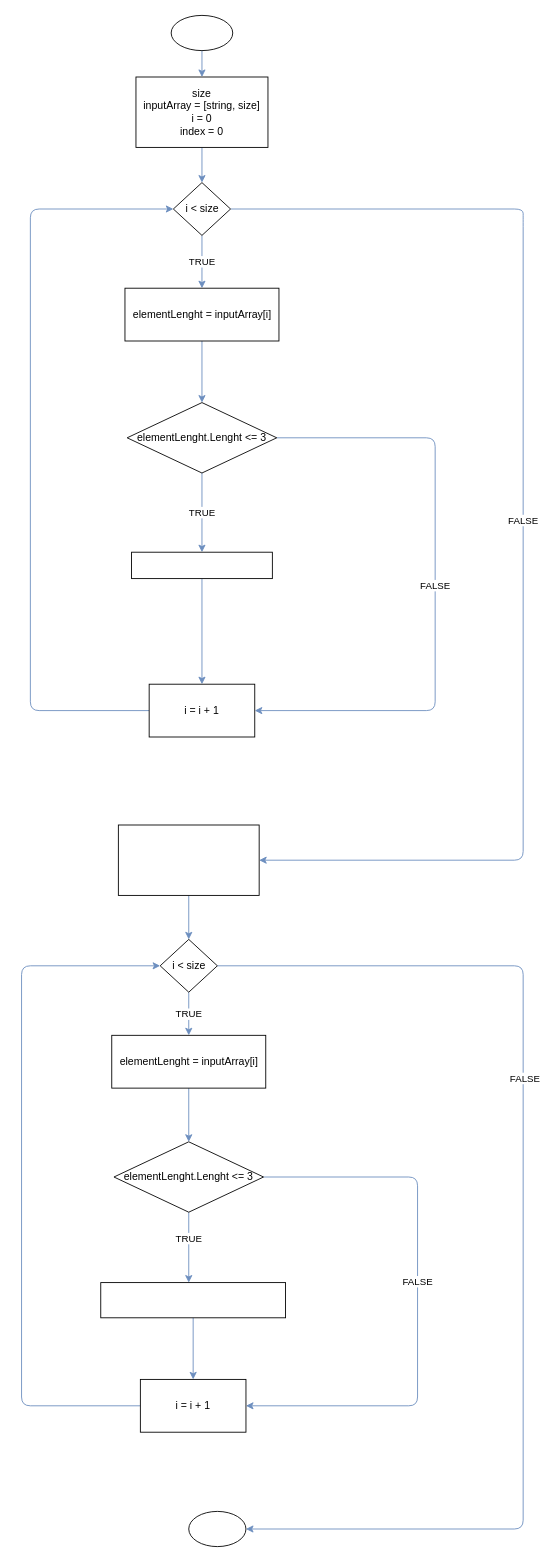
This 554x1562 diagram has some shape labels left out. The box of each missing label's shape, as (x1, y1, x2, y2) in pixels:
END: (188, 1511, 246, 1547)
index = index + 1: (131, 551, 272, 579)
outputArray[index] = inputArray[i] index = index + 1: (100, 1282, 286, 1318)
size inputArray = [string, size] outputArray = [string, index] i = 0 index = 0: (117, 824, 259, 895)
Start: (170, 15, 233, 51)
